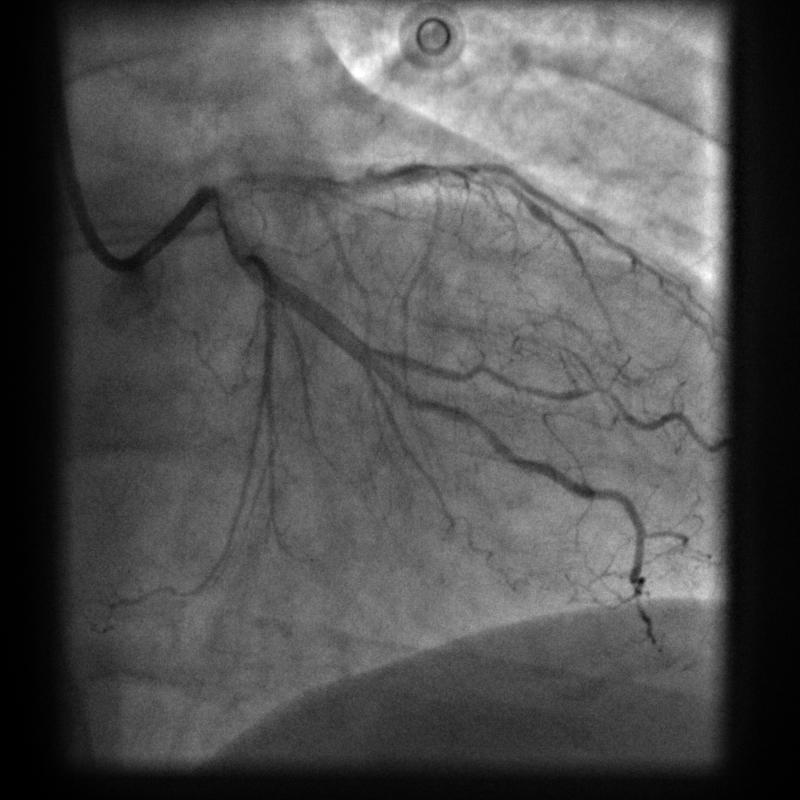Stenosis: (402, 394, 486, 435)
